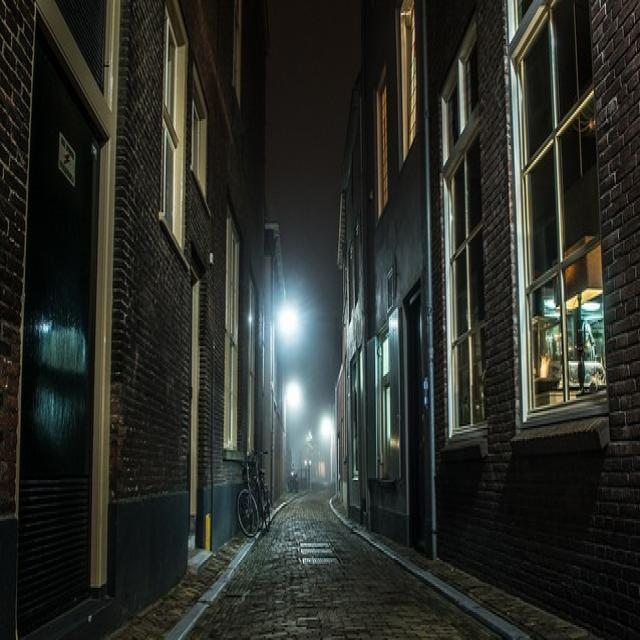Bicycle: (234, 433, 276, 546)
